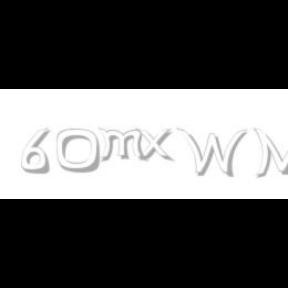6: (20, 128, 50, 176)
O: (57, 128, 102, 174)
W: (176, 128, 248, 178)
m: (97, 128, 149, 162)
x: (135, 128, 177, 162)
